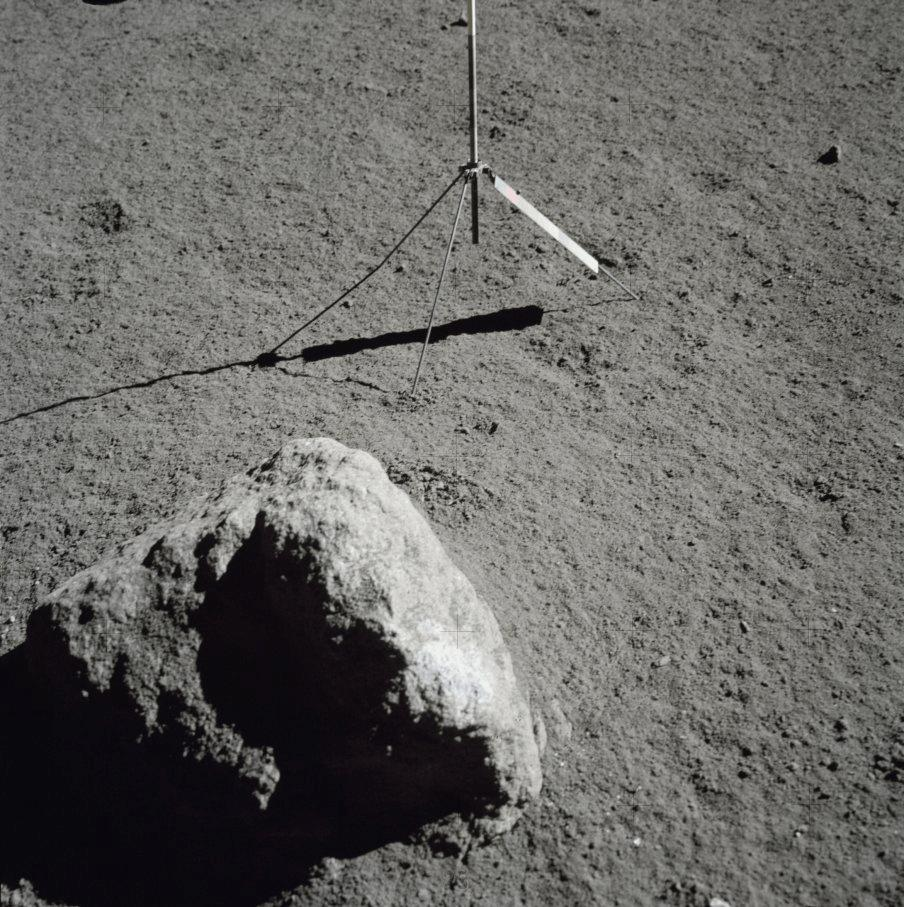rock: (4, 438, 542, 907)
